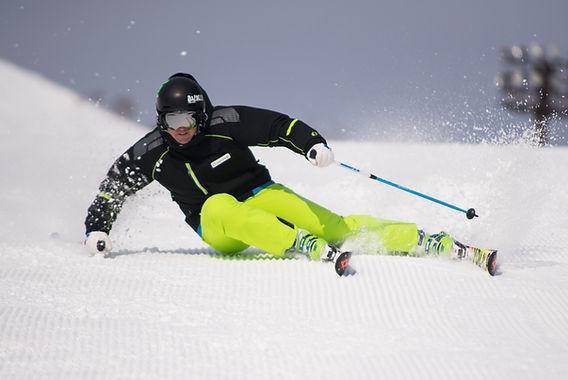skier: (77, 70, 500, 290)
